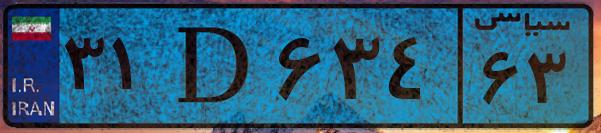1: (110, 28, 158, 98)
3: (330, 28, 385, 110), (57, 26, 110, 100), (525, 38, 570, 115)
4: (385, 28, 445, 110)
6: (270, 28, 330, 110), (475, 38, 525, 113)
D: (158, 12, 270, 120)
